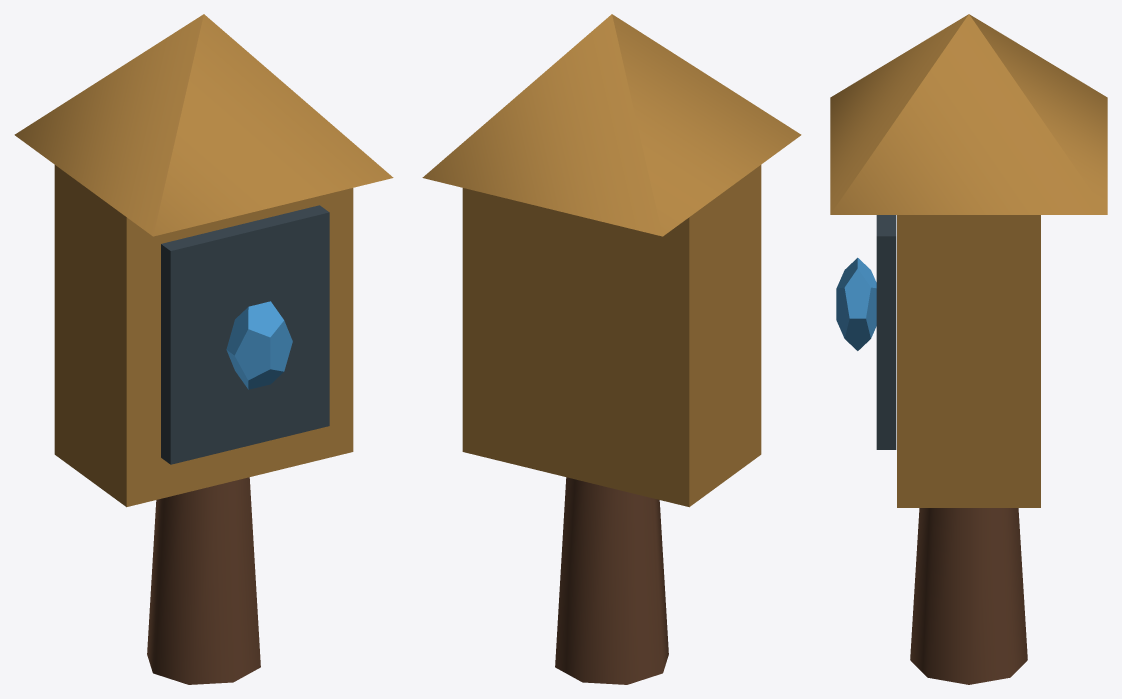
Rendered from holy-reliquary.glb.
3 renders of one model, left to right at view 1: azimuth 30°, elevation 25°; view 2: azimuth 150°, elevation 25°; view 3: azimuth 270°, elevation 25°, orthographic.
Parts seen in each view (by area): view 1: reliquary-case, reliquary-roof, reliquary-door, reliquary-handle, reliquary-relic; view 2: reliquary-case, reliquary-roof, reliquary-handle; view 3: reliquary-roof, reliquary-case, reliquary-handle, reliquary-door, reliquary-relic.
Boxes of the visible parts, x1,y1,x2,y2 form: reliquary-case: (54, 165, 353, 507); reliquary-roof: (14, 14, 393, 236); reliquary-door: (161, 205, 329, 464); reliquary-handle: (147, 477, 260, 684); reliquary-relic: (226, 301, 292, 389); reliquary-case: (462, 165, 761, 507); reliquary-roof: (422, 14, 801, 236); reliquary-handle: (555, 477, 668, 684); reliquary-roof: (830, 14, 1107, 214); reliquary-case: (897, 215, 1040, 507); reliquary-handle: (910, 508, 1027, 684); reliquary-door: (876, 215, 896, 449); reliquary-relic: (836, 257, 876, 350).
Bounding box in the file's own units: 0.2121 × 0.545 × 0.2121.
